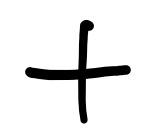plus: (25, 19, 129, 122)
